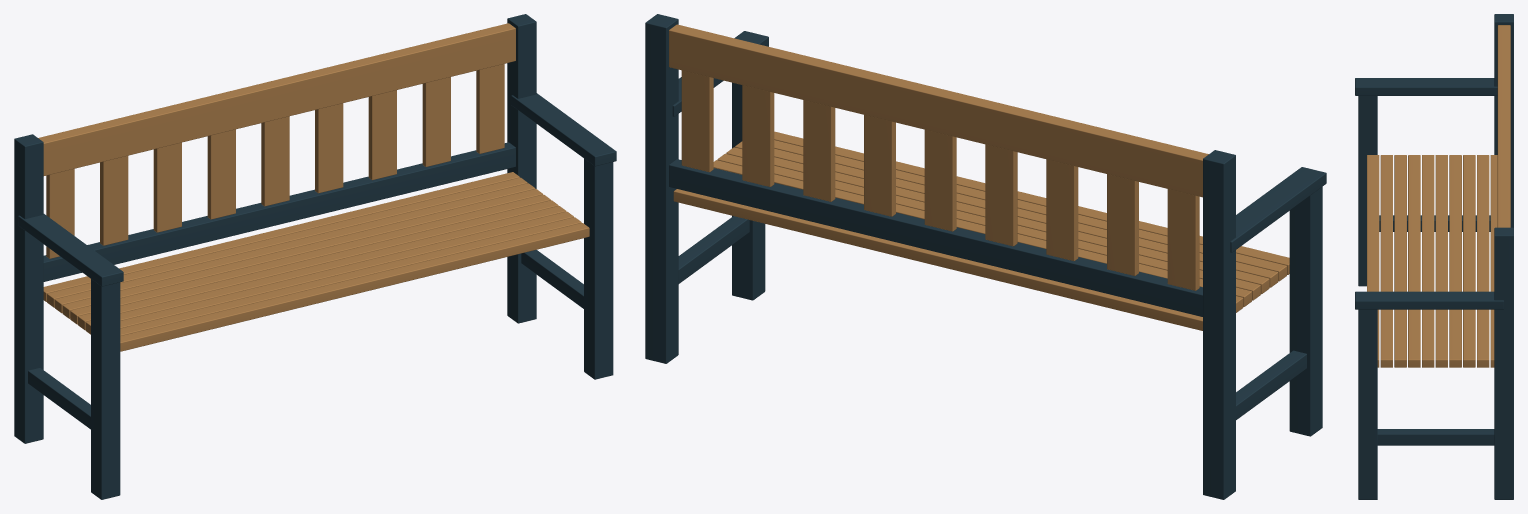
File: supplied_bench.glb
The picture shows the model from 3 angles, left to right: view 1: azimuth 30°, elevation 25°; view 2: azimuth 150°, elevation 25°; view 3: azimuth 270°, elevation 25°; orthographic projection. The views are drawn at different scales.
Parts seen in each view (by area): view 1: top, cross bottom.005, cross bottom.003, cross bottom, Cross top.002, Cross top.001, Cross top, Cross top.003, cross bottom.002, cross bottom.001, cross bottom.006, cross bottom.007; view 2: cross bottom.005, cross bottom.003, top, cross bottom, Cross top.002, Cross top.003, Cross top.001, cross bottom.001, Cross top, cross bottom.006, cross bottom.007; view 3: top, Cross top.003, Cross top, cross bottom.003, cross bottom.002, cross bottom.001, Cross top.001, cross bottom.007, Cross top.002, cross bottom.006.
Part boxes in pixels (box(x1,y1,x2,y2)): top: box(43, 172, 589, 351); cross bottom.005: box(46, 64, 504, 258); cross bottom.003: box(38, 23, 515, 175); cross bottom: box(43, 142, 515, 281); Cross top.002: box(14, 134, 43, 443); Cross top.001: box(91, 279, 120, 499); Cross top: box(584, 158, 613, 379); Cross top.003: box(507, 14, 536, 323); cross bottom.002: box(511, 93, 616, 166); cross bottom.001: box(18, 214, 123, 286); cross bottom.006: box(28, 368, 90, 429); cross bottom.007: box(521, 250, 583, 308); cross bottom.005: box(681, 70, 1199, 290); cross bottom.003: box(669, 24, 1208, 197); top: box(673, 131, 1289, 330); cross bottom: box(669, 159, 1202, 316); Cross top.002: box(1203, 150, 1235, 499); Cross top.003: box(645, 14, 678, 363); Cross top.001: box(1289, 187, 1322, 436); cross bottom.001: box(1230, 167, 1326, 252); Cross top: box(732, 82, 765, 300); cross bottom.006: box(1236, 350, 1306, 419); cross bottom.007: box(678, 216, 749, 283); top: box(1367, 155, 1497, 367); Cross top.003: box(1494, 227, 1513, 499); Cross top: box(1358, 309, 1377, 499); cross bottom.003: box(1497, 25, 1510, 227); cross bottom.002: box(1355, 291, 1504, 309); cross bottom.001: box(1355, 78, 1497, 95); Cross top.001: box(1358, 96, 1377, 286); cross bottom.007: box(1377, 429, 1494, 445); Cross top.002: box(1494, 14, 1513, 227); cross bottom.006: box(1379, 215, 1490, 231).
Bounding box in the file's own units: 1.63 × 0.9 × 0.49.
